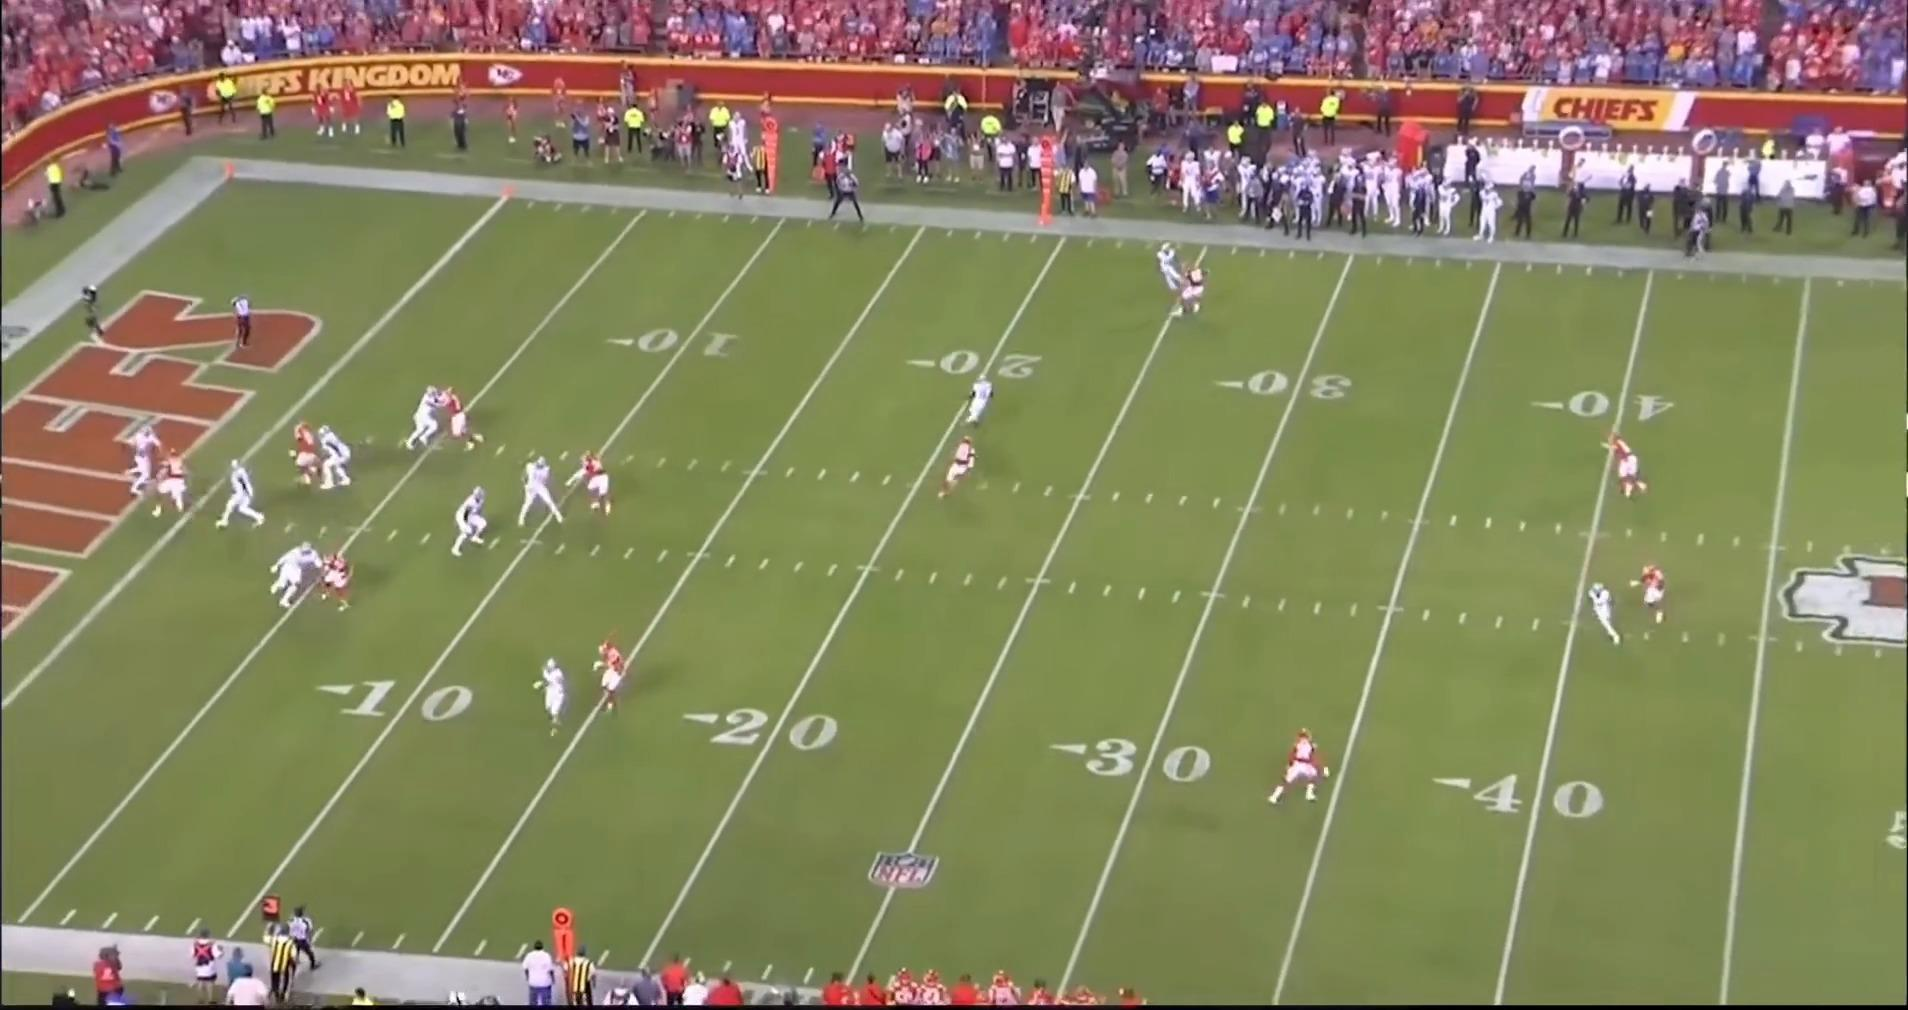defense: (1271, 723, 1339, 805), (265, 542, 319, 614), (1604, 428, 1652, 502), (567, 448, 616, 516), (589, 639, 631, 713), (149, 449, 191, 519), (938, 433, 979, 500), (1630, 563, 1672, 629), (443, 389, 486, 451), (290, 420, 327, 490), (1169, 265, 1206, 321)
oline: (215, 460, 269, 535), (515, 453, 567, 532), (448, 484, 488, 559), (313, 424, 353, 492), (318, 550, 357, 612)
qb: (124, 423, 160, 501)
ref: (280, 903, 321, 975), (78, 263, 110, 343), (829, 168, 868, 223), (227, 288, 257, 357), (1680, 205, 1714, 265)
skill: (535, 654, 574, 730), (405, 384, 447, 452), (1581, 581, 1620, 649), (963, 372, 998, 432), (1152, 240, 1190, 293)
